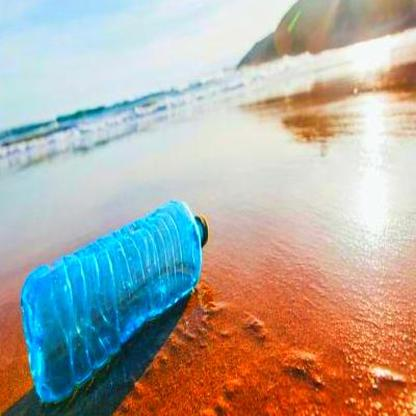plastic bottle: (19, 199, 208, 402)
